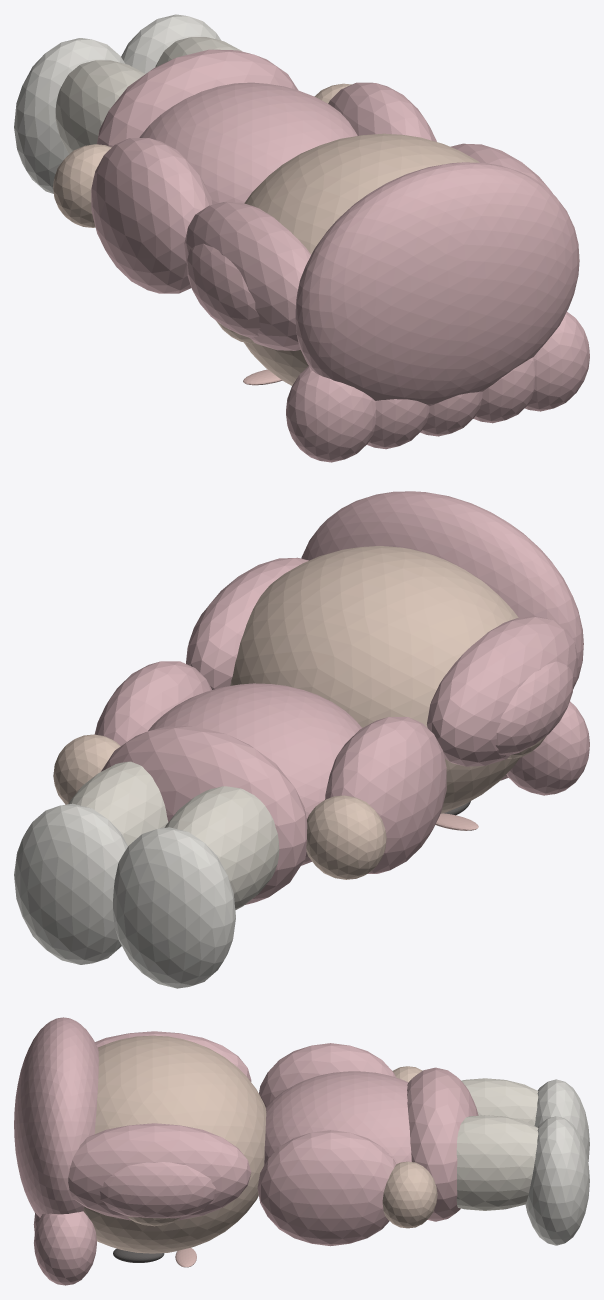
Rendered from copywriter.glb.
The picture shows the model from 3 angles, top to bottom: view 1: azimuth 30°, elevation 25°; view 2: azimuth 150°, elevation 25°; view 3: azimuth 270°, elevation 25°; orthographic projection. The views are drawn at different scales.
Visible parts, largest first — view 1: hair_cap, body_shirt, sleeve_L, head_base, long_hair_L, skirt, shoe_L, fringe_0, leg_L, pink_pigtail_L, fringe_4, sleeve_R (+7 smaller); view 2: head_base, hair_cap, shoe_L, shoe_R, skirt, body_shirt, long_hair_L, sleeve_L, leg_L, long_hair_R, hand_L, sleeve_R (+4 smaller); view 3: head_base, hair_cap, sleeve_R, long_hair_R, body_shirt, leg_R, skirt, shoe_R, pink_pigtail_R, fringe_4, sleeve_L, hand_R (+4 smaller).
Boxes of the visible parts, x1,y1,x2,y2 form: hair_cap: (295, 162, 579, 406); body_shirt: (139, 82, 357, 204); sleeve_L: (91, 138, 212, 293); head_base: (244, 133, 479, 385); long_hair_L: (184, 202, 310, 350); skirt: (97, 49, 298, 147); shoe_L: (14, 38, 125, 193); fringe_0: (286, 366, 375, 462); leg_L: (55, 60, 145, 154); pink_pigtail_L: (187, 243, 260, 337); fringe_4: (525, 311, 589, 411); sleeve_R: (328, 82, 436, 141); head_base: (230, 546, 519, 813); hair_cap: (301, 491, 583, 689); shoe_L: (113, 827, 235, 988); shoe_R: (14, 803, 127, 964); skirt: (101, 726, 307, 904); body_shirt: (148, 683, 361, 865); long_hair_L: (427, 616, 578, 766); sleeve_L: (325, 717, 446, 873); leg_L: (164, 786, 279, 910); long_hair_R: (186, 557, 308, 689); hand_L: (306, 795, 386, 879); sleeve_R: (94, 661, 211, 745); head_base: (83, 1035, 266, 1253); hair_cap: (14, 1017, 98, 1217); sleeve_R: (257, 1130, 396, 1246); long_hair_R: (68, 1123, 251, 1220); body_shirt: (264, 1071, 411, 1164); leg_R: (456, 1115, 538, 1210); skirt: (407, 1067, 478, 1221); shoe_R: (525, 1116, 589, 1245); pink_pigtail_R: (99, 1162, 215, 1218); fringe_4: (34, 1211, 96, 1285); sleeve_L: (259, 1043, 395, 1106); hand_R: (382, 1161, 437, 1228).
Bounding box in the file's own units: 1.58 × 1.19 × 2.91.
